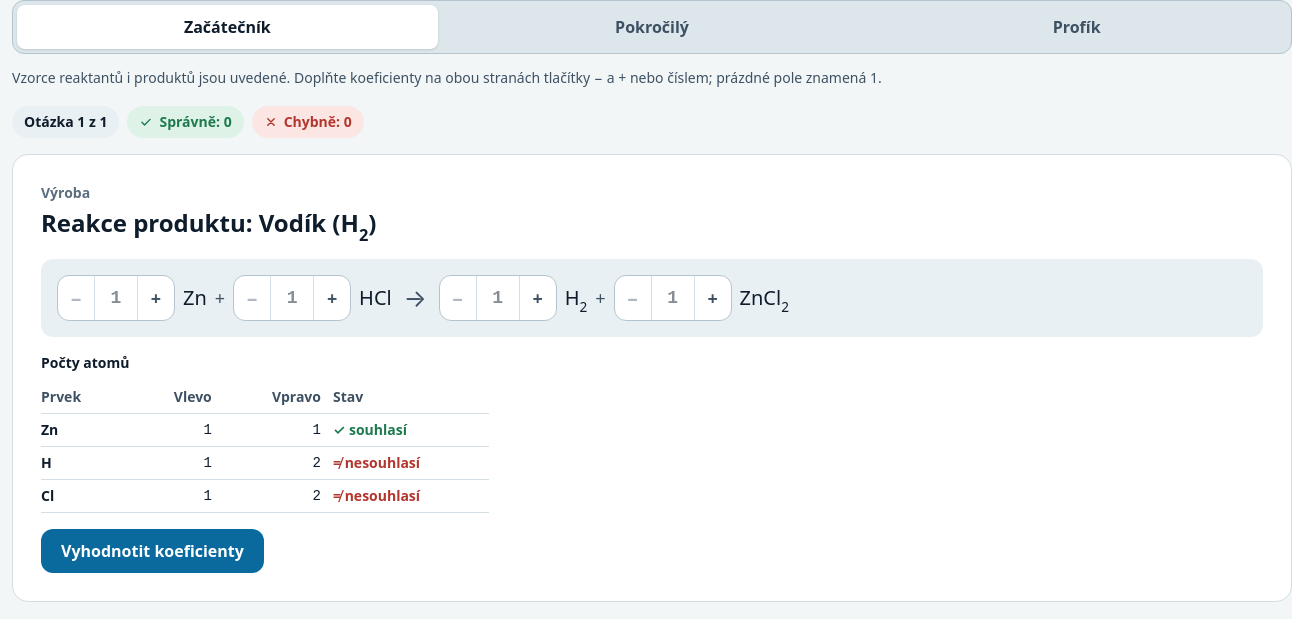
Test case: reaction equation practice › steps coefficients and recounts the atoms on every change
Expected: the row "H" reads "H 1 2 ≠ nesouhlasí", [41, 446, 489, 480]
Expected: the row "Zn" reads "Zn 1 1 ✓ souhlasí", [41, 414, 489, 446]
What coordinates should you click on to do the following:
click the button named "Zvýšit koeficient reaktant HCl"
I would click on:
 (332, 298)
Its box is [314, 276, 350, 320].
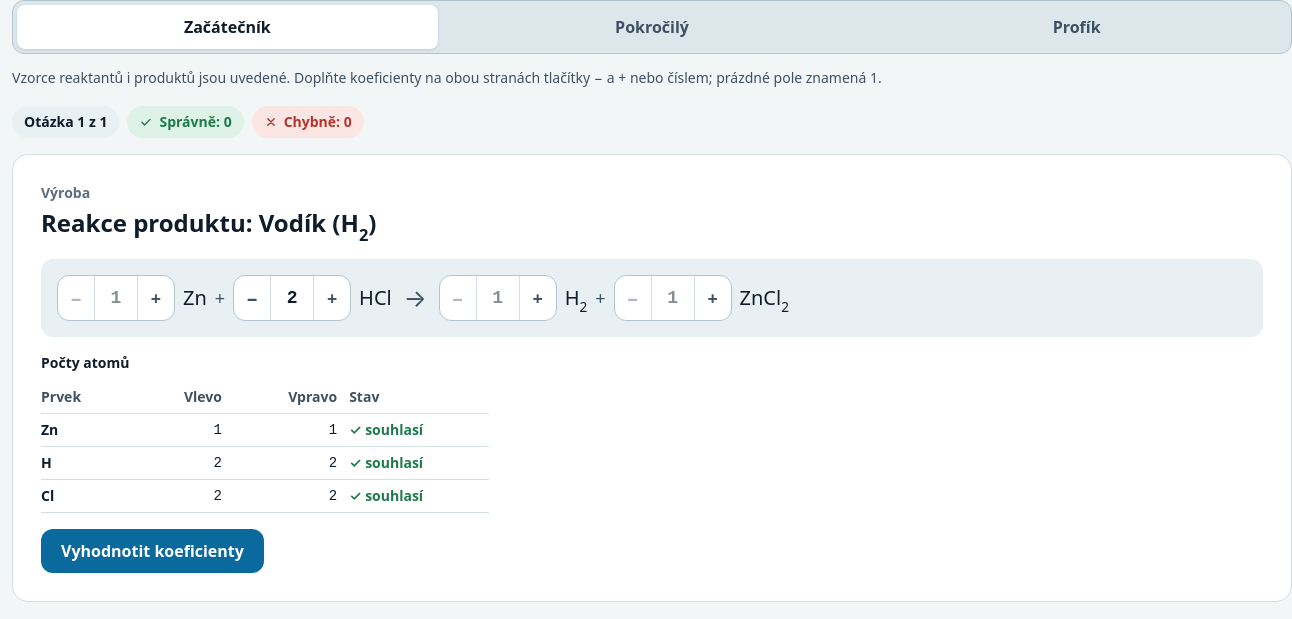
Result: the field named "Koeficient reaktant HCl" holds "2" at [270, 276, 314, 320]
Result: the row "H" reads "H 2 2 ✓ souhlasí" at [41, 446, 489, 480]
Result: the row "Cl" reads "Cl 2 2 ✓ souhlasí" at [41, 480, 489, 512]
What coordinates should you click on to do the following:
click the button named "Snížit koeficient reaktant HCl"
I would click on:
 (252, 298)
Its box is [234, 276, 270, 320].
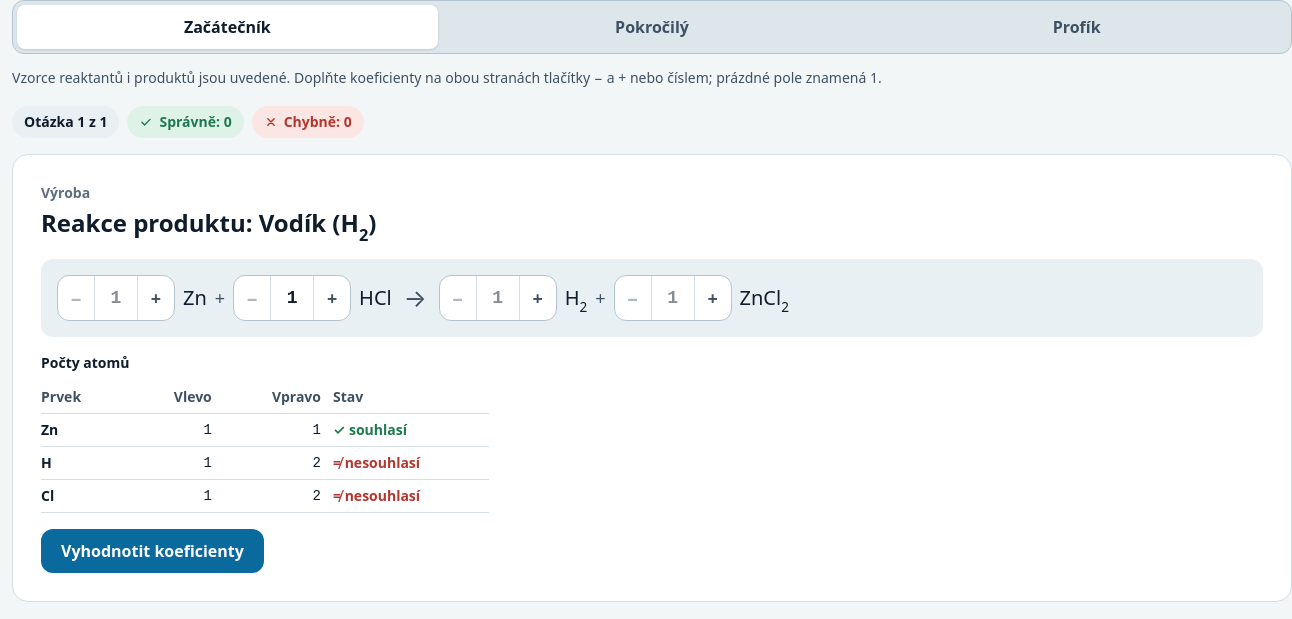
Result: the field named "Koeficient reaktant HCl" holds "1" at [270, 276, 314, 320]
